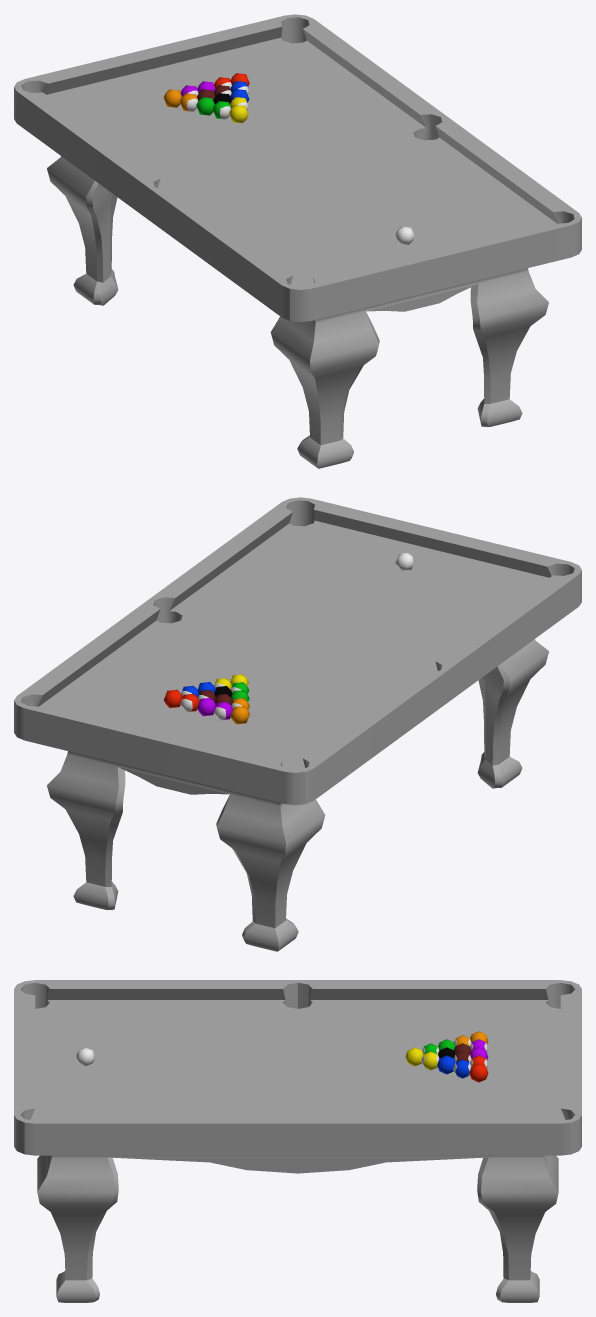
The model's file is billiards_Table_and_Balls.fbx.
3 renders of one model, top to bottom at view 1: azimuth 30°, elevation 25°; view 2: azimuth 150°, elevation 25°; view 3: azimuth 270°, elevation 25°, orthographic.
Visible parts, largest first — view 1: poolTable; view 2: poolTable; view 3: poolTable.
Boxes of the visible parts, left/top/right/bottom form: poolTable: left=14, top=14, right=581, bottom=468; poolTable: left=14, top=497, right=581, bottom=951; poolTable: left=14, top=980, right=581, bottom=1302.
Bounding box in the file's own units: 1.37 × 0.9285 × 2.29.
